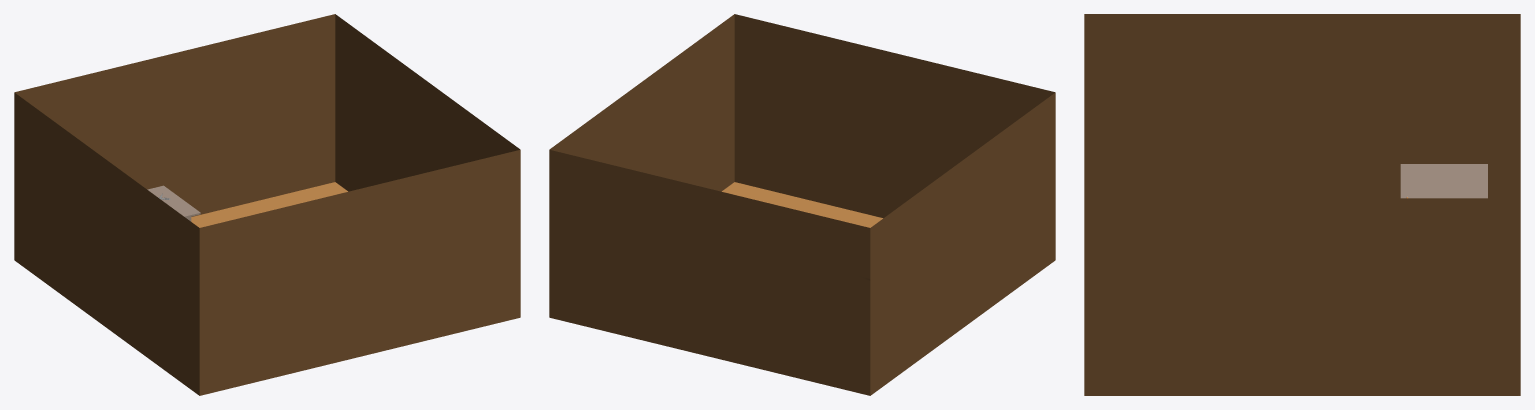
The model's file is shop.glb.
3 views of the same model, side by side, from view 1: azimuth 30°, elevation 25°; view 2: azimuth 150°, elevation 25°; view 3: azimuth 270°, elevation 25° (orthographic). The views are drawn at different scales.
Visible parts, largest first — view 1: Shop, Table; view 2: Shop; view 3: Shop, Table.
Boxes of the visible parts, box(x1,y1,x2,y2) form: Shop: box(14, 14, 520, 395); Table: box(147, 185, 200, 221); Shop: box(549, 14, 1055, 395); Shop: box(1084, 14, 1520, 395); Table: box(1400, 164, 1487, 198).
Bounding box in the file's own units: 4 × 2 × 4.
6 materials, 5 textured.
